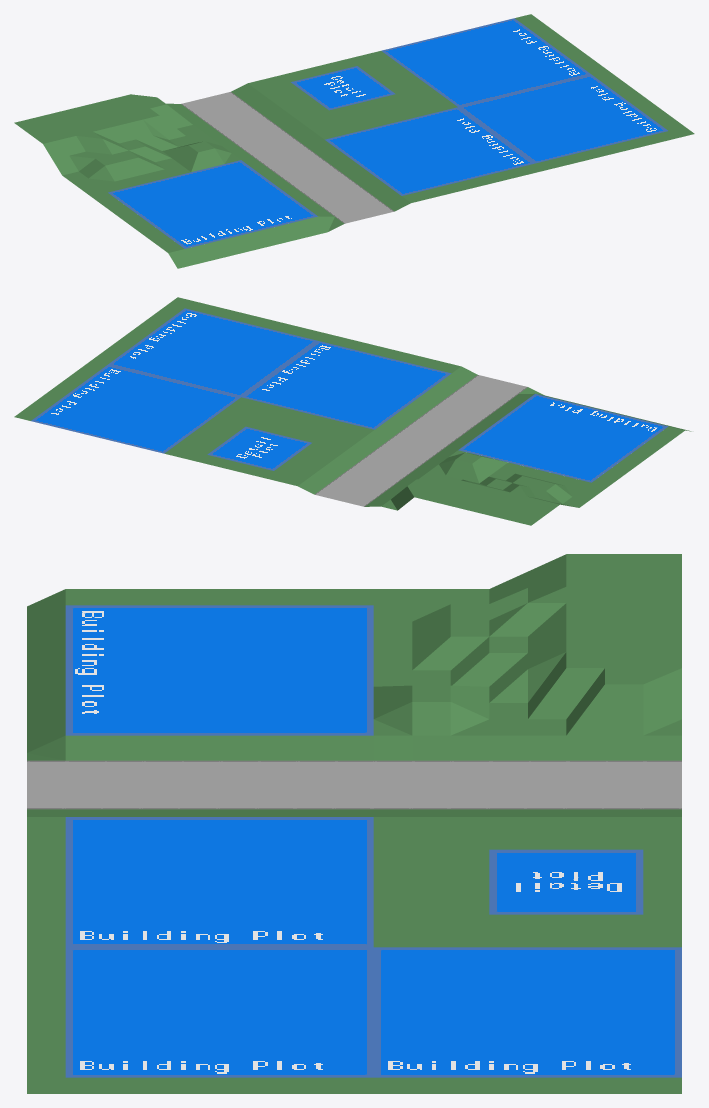
File: Test Environment.gltf
3 views of the same model, one above another, from view 1: azimuth 30°, elevation 25°; view 2: azimuth 150°, elevation 25°; view 3: azimuth 270°, elevation 25° (orthographic). The views are drawn at different scales.
Bounding box in the file's own units: 31 × 1.5 × 17.
1 material, 1 textured.
